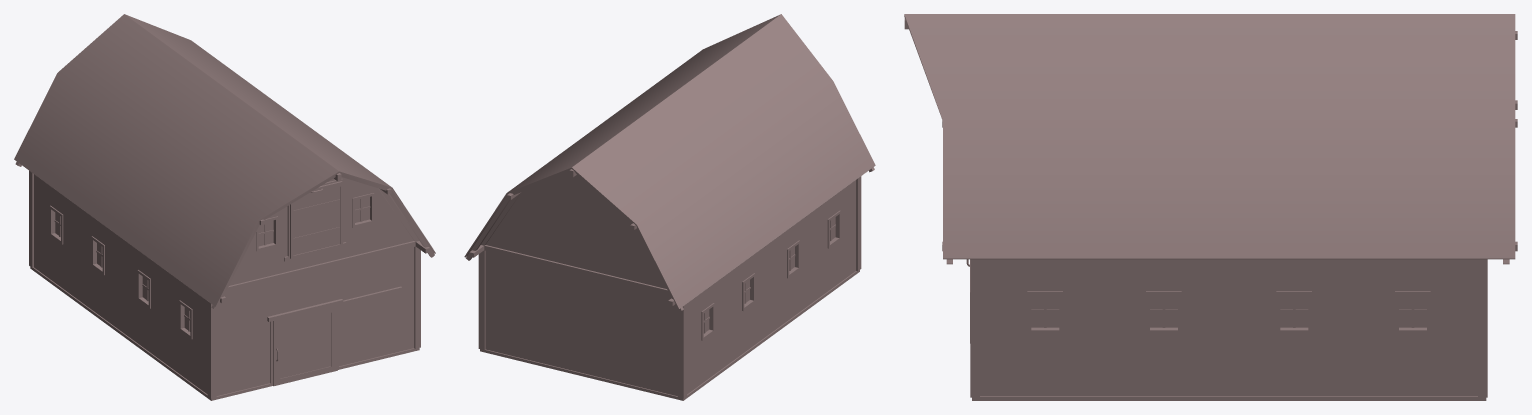
3 views of the same model, side by side, from view 1: azimuth 30°, elevation 25°; view 2: azimuth 150°, elevation 25°; view 3: azimuth 270°, elevation 25° (orthographic). The views are drawn at different scales.
Visible parts, largest first — view 1: RedBarn15; view 2: RedBarn15; view 3: RedBarn15.
Part boxes in pixels (x1,y1,x2,y2): RedBarn15: [14, 14, 435, 400]; RedBarn15: [464, 14, 875, 400]; RedBarn15: [904, 14, 1517, 400].
Size of the model in its own units: 1.19 by 1.13 by 2.
